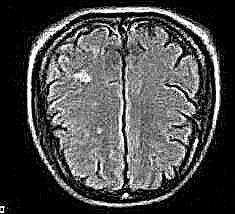Normal_Brain: (3, 2, 235, 214)
